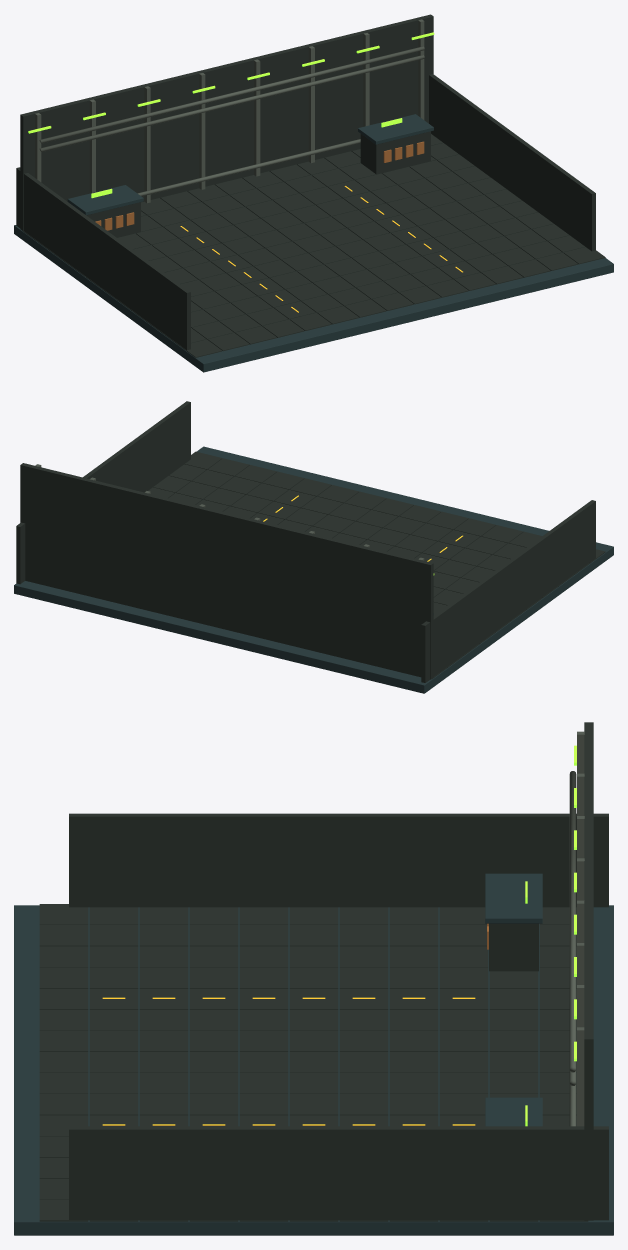
Rendered from reactor-workshop-v1.glb.
The picture shows the model from 3 angles, top to bottom: view 1: azimuth 30°, elevation 25°; view 2: azimuth 150°, elevation 25°; view 3: azimuth 270°, elevation 25°; orthographic projection. The views are drawn at different scales.
Visible parts, largest first — view 1: room_ReactorIron, room_Graphite, room_WornEdges, room_GreenEnergy, room_Copper; view 2: room_ReactorIron, room_Graphite; view 3: room_ReactorIron, room_Graphite, room_WornEdges, room_OrangeEnergy.
Part boxes in pixels (box(x1,y1,x2,y2)): room_ReactorIron: box(16, 14, 605, 357); room_Graphite: box(14, 114, 613, 372); room_WornEdges: box(35, 19, 424, 203); room_GreenEnergy: box(28, 32, 434, 198); room_Copper: box(95, 141, 424, 230); room_ReactorIron: box(16, 401, 605, 682); room_Graphite: box(14, 446, 613, 693); room_ReactorIron: box(39, 722, 608, 1221); room_Graphite: box(14, 873, 613, 1235); room_WornEdges: box(569, 731, 584, 1126); room_OrangeEnergy: box(102, 997, 475, 1125).
Size of the model in its own units: 15 by 4.33 by 12.
